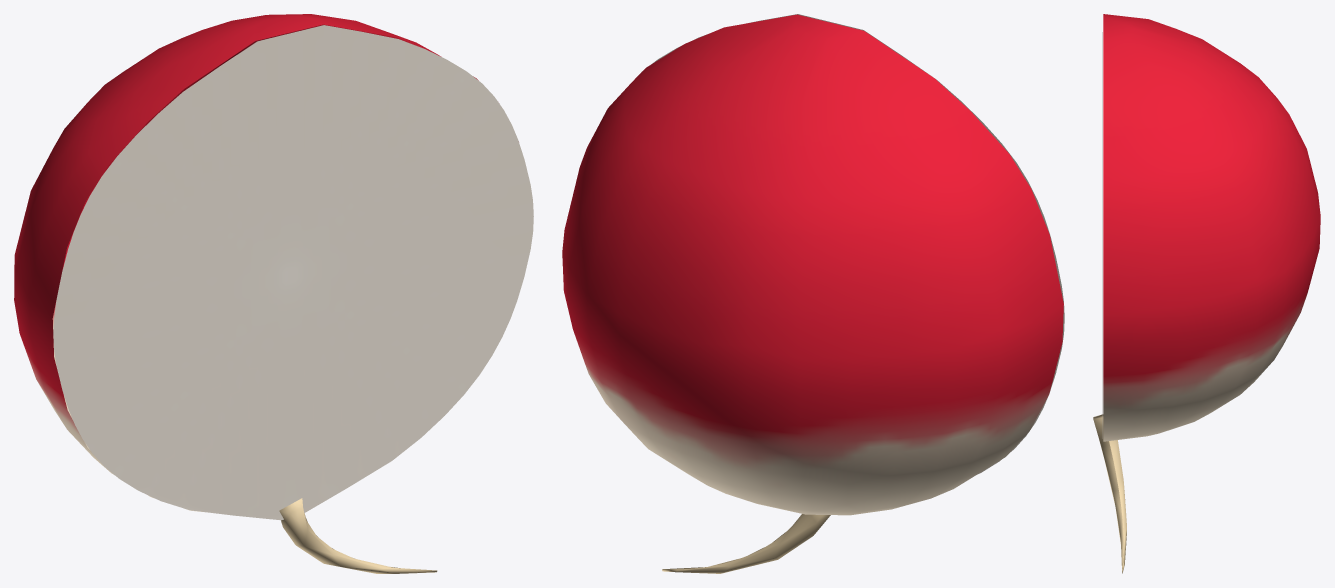
File: NP_Radish_CutHalf_LOD1.fbx
The picture shows the model from 3 angles, left to right: view 1: azimuth 30°, elevation 25°; view 2: azimuth 150°, elevation 25°; view 3: azimuth 270°, elevation 25°; orthographic projection. The views are drawn at different scales.
Visible parts, largest first — view 1: NP_Radish_CutHalf.001; view 2: NP_Radish_CutHalf.001; view 3: NP_Radish_CutHalf.001.
Boxes of the visible parts, <box> form: NP_Radish_CutHalf.001: <box>14,14,533,573</box>; NP_Radish_CutHalf.001: <box>562,14,1064,573</box>; NP_Radish_CutHalf.001: <box>1093,14,1320,573</box>.
Bounding box in the file's own units: 36.3 × 42.38 × 18.23.
